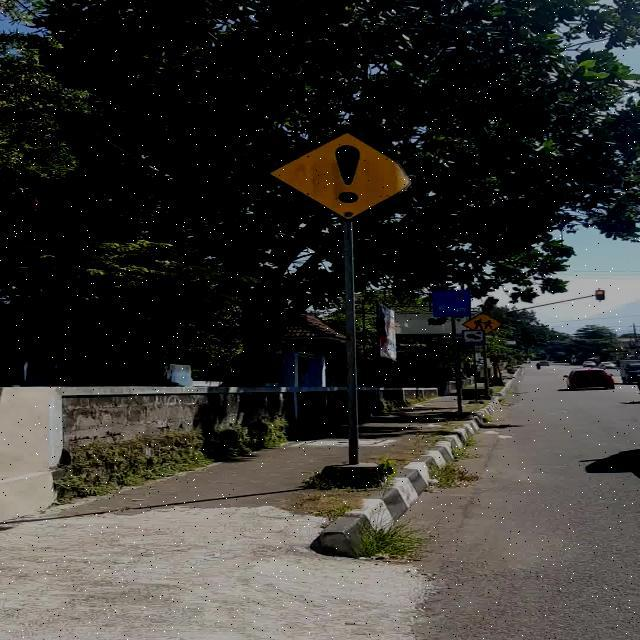Hati-Hati: (266, 130, 410, 222)
